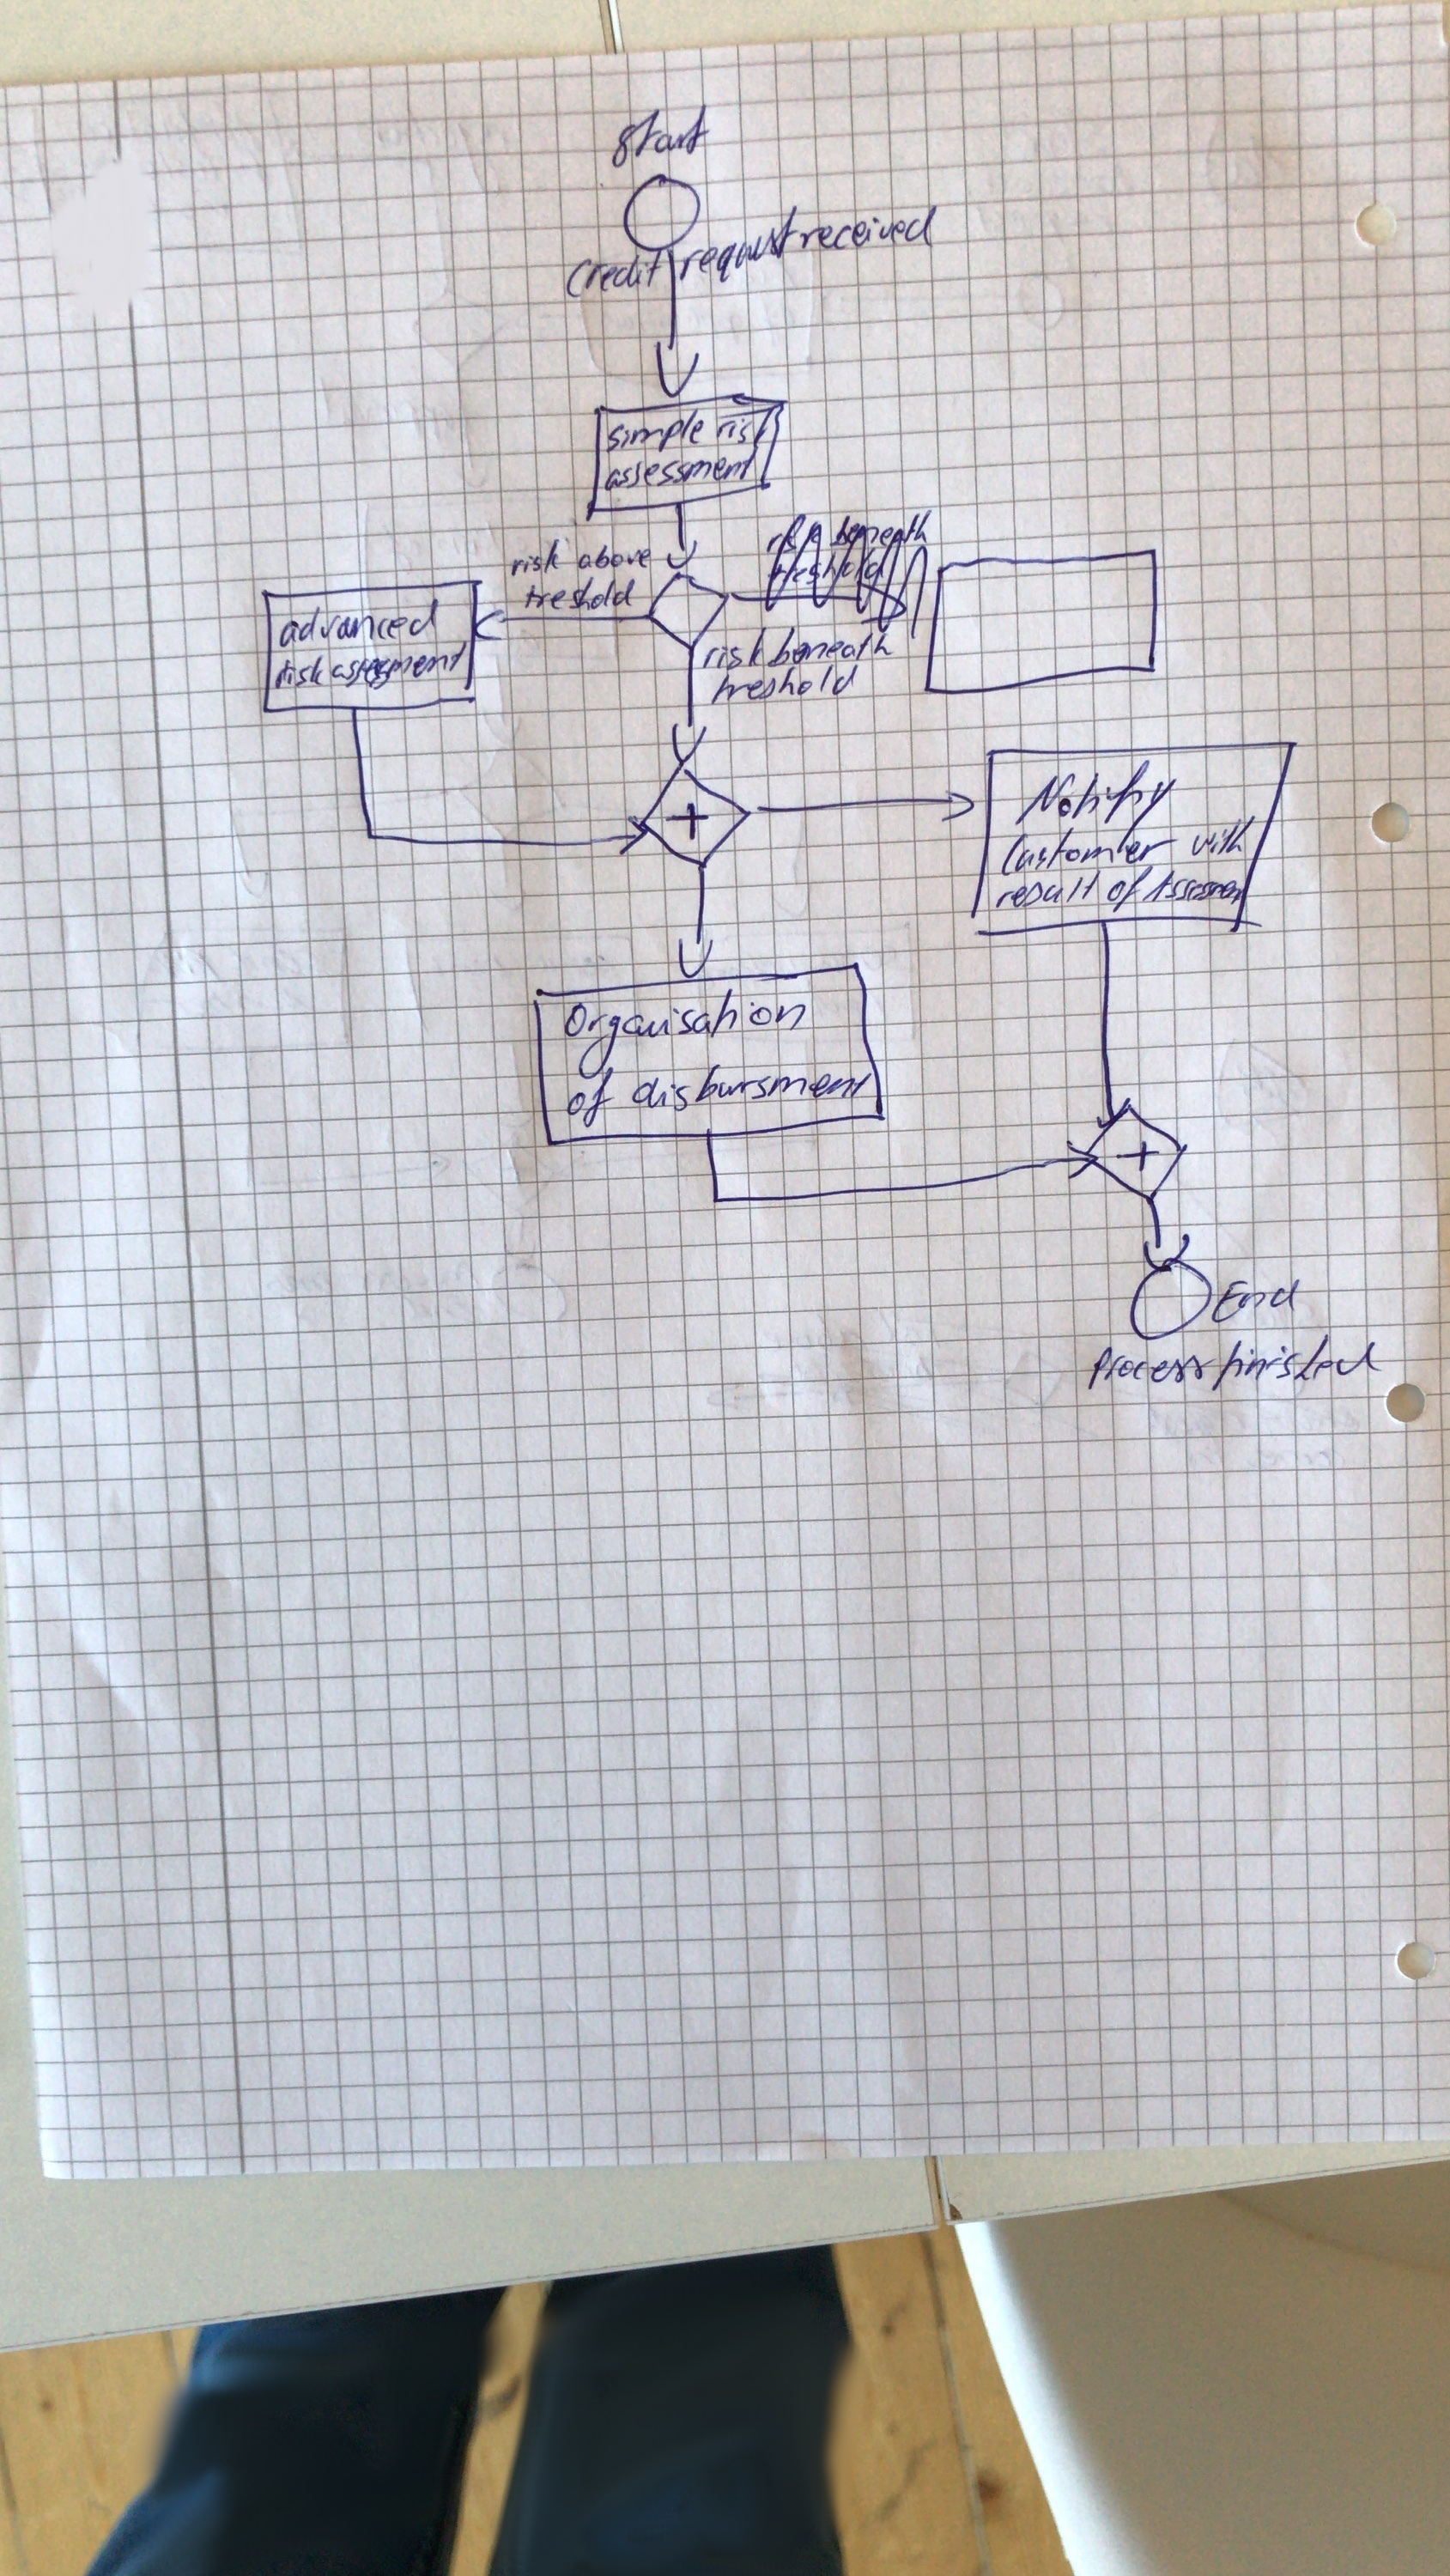Assessment: (1139, 867, 1252, 909)
Customer: (996, 819, 1181, 879)
End: (1206, 1276, 1305, 1329)
Notify: (1010, 757, 1181, 856)
Organisation: (561, 985, 810, 1083)
Process: (1084, 1345, 1220, 1394)
above: (573, 541, 654, 573)
advanced: (276, 594, 444, 655)
assessment: (599, 442, 764, 494), (327, 639, 470, 694)
beneath: (764, 623, 895, 671)
credit: (561, 242, 668, 304)
disbursment: (628, 1060, 875, 1115)
finished: (1210, 1330, 1386, 1396)
of: (562, 1063, 619, 1131), (1102, 863, 1156, 916)
on: (746, 998, 810, 1037)
received: (797, 202, 941, 255)
request: (675, 200, 803, 288)
result: (992, 867, 1105, 913)
risk: (698, 625, 769, 672), (713, 405, 780, 453), (506, 536, 564, 580), (271, 651, 329, 694)
simple: (601, 407, 707, 456)
start: (608, 99, 713, 173)
treshold: (707, 662, 861, 709), (520, 573, 640, 614)
with: (1188, 812, 1259, 860)
